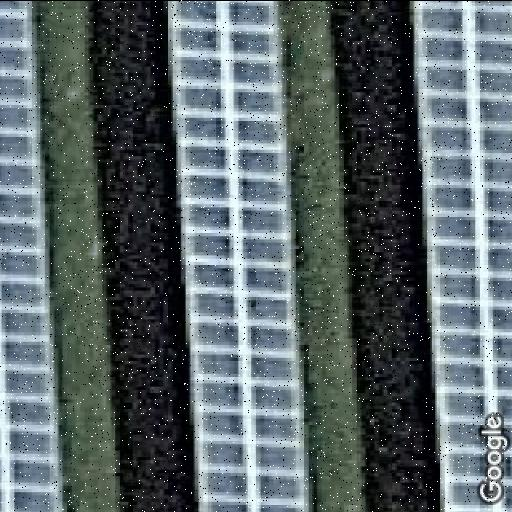solar-panel: (166, 0, 317, 512), (406, 0, 512, 512), (0, 0, 74, 512)
